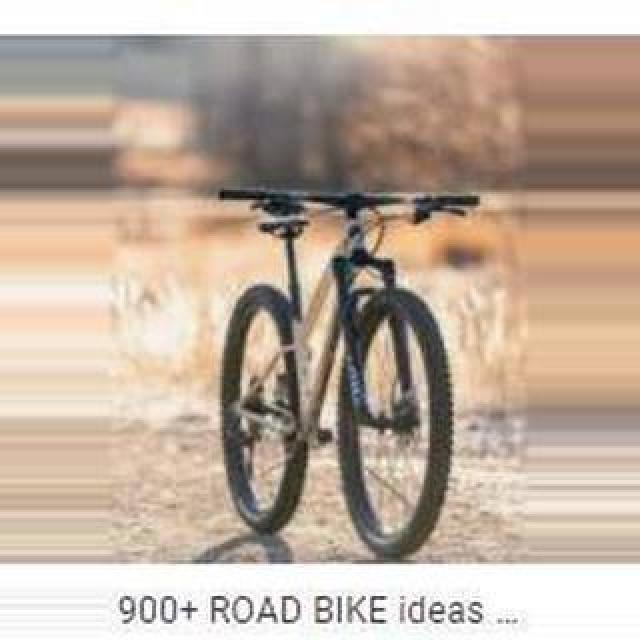Person: (211, 194, 485, 560)
